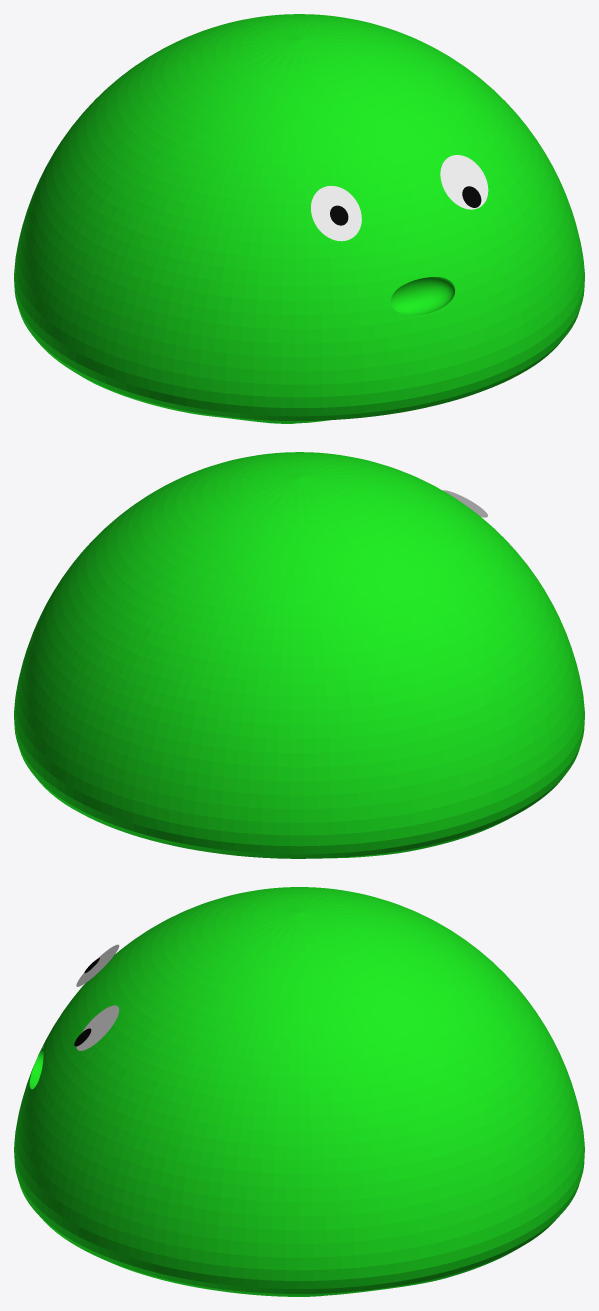
The model's file is GreenSlime.fbx.
The picture shows the model from 3 angles, top to bottom: view 1: azimuth 30°, elevation 25°; view 2: azimuth 150°, elevation 25°; view 3: azimuth 270°, elevation 25°; orthographic projection.
Parts seen in each view (by area): view 1: Sphere; view 2: Sphere; view 3: Sphere.
Part boxes in pixels (<box>): Sphere: <box>14,14,584,423</box>; Sphere: <box>14,452,584,858</box>; Sphere: <box>14,887,584,1296</box>.
Bounding box in the file's own units: 196 × 105 × 196.
